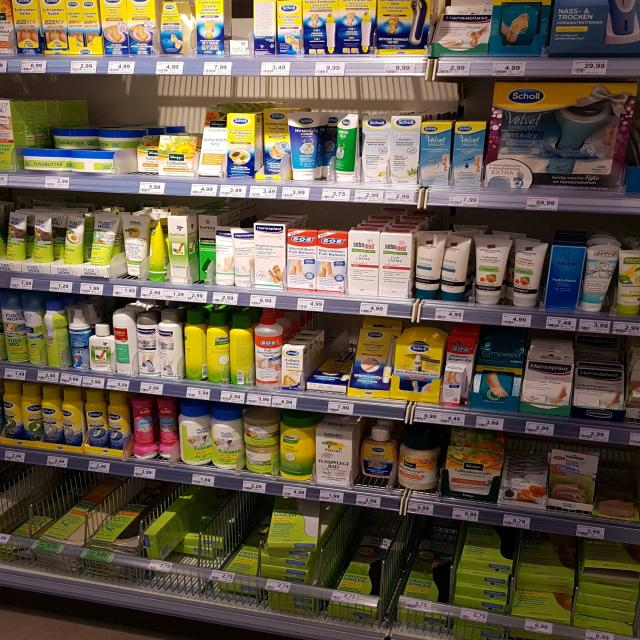empty: (222, 1, 265, 58)
